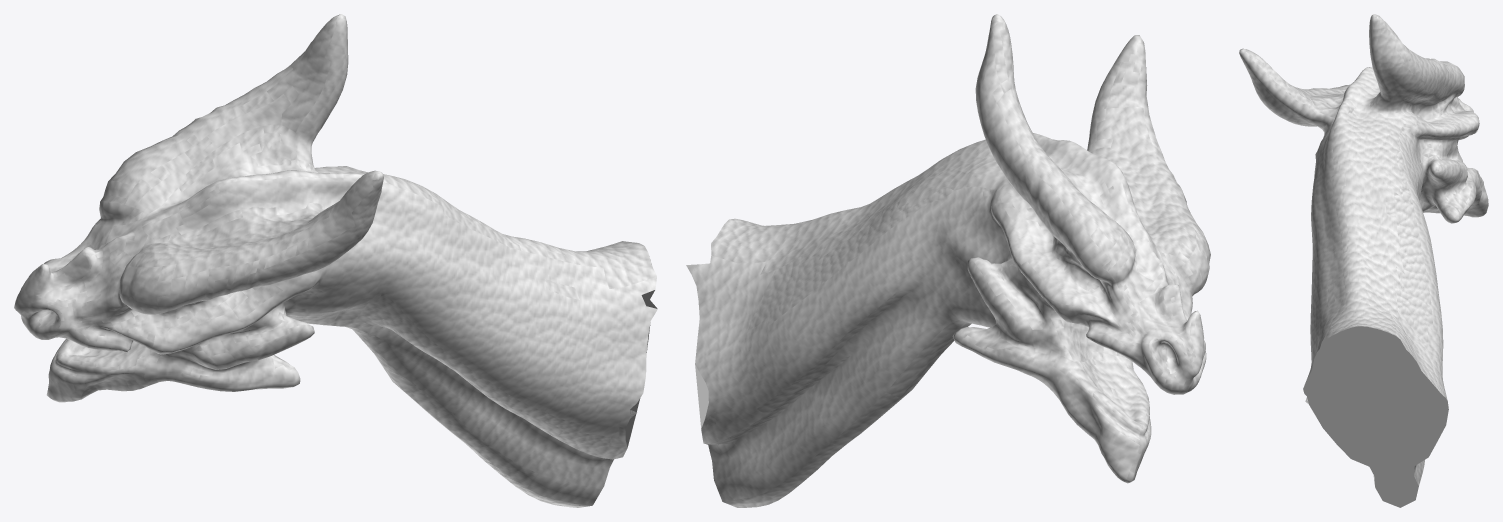
The model's file is Cabeza4.obj.
3 views of the same model, side by side, from view 1: azimuth 30°, elevation 25°; view 2: azimuth 150°, elevation 25°; view 3: azimuth 270°, elevation 25° (orthographic). The views are drawn at different scales.
Visible parts, largest first — view 1: Cabeza4; view 2: Cabeza4; view 3: Cabeza4.
Boxes of the visible parts, x1=… form: Cabeza4: x1=14, y1=14, x2=657, y2=507; Cabeza4: x1=686, y1=14, x2=1210, y2=507; Cabeza4: x1=1239, y1=14, x2=1488, y2=507.
Size of the model in its own units: 14.22 by 13.47 by 7.52.
